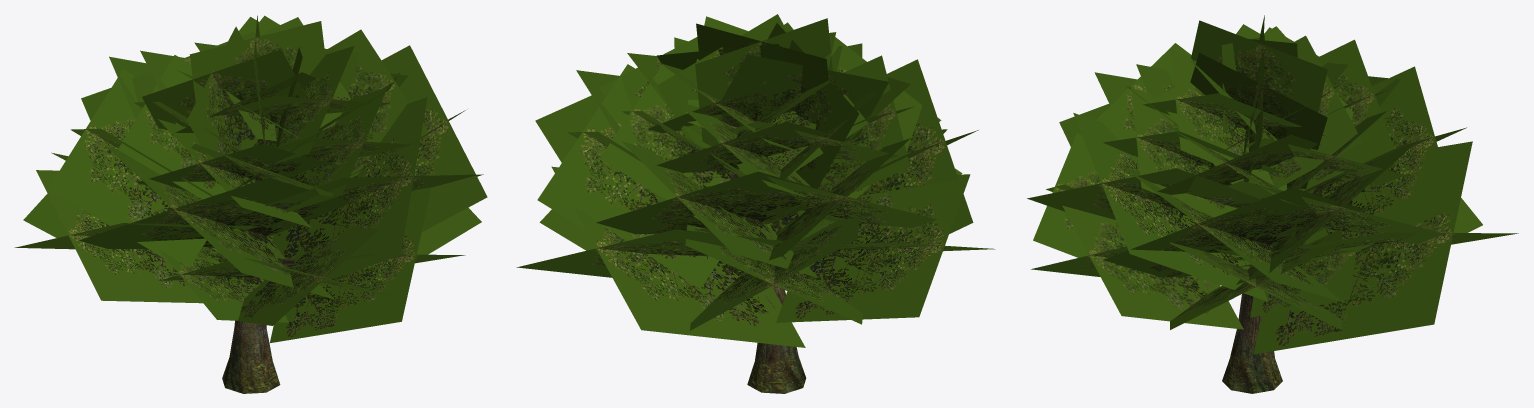
Rendered from tre_pine08.glb.
3 renders of one model, left to right at view 1: azimuth 30°, elevation 25°; view 2: azimuth 150°, elevation 25°; view 3: azimuth 270°, elevation 25°, orthographic.
Visible parts, largest first — view 1: tre_pine08; view 2: tre_pine08; view 3: tre_pine08.
Part boxes in pixels (x1,y1,x2,y2): tre_pine08: (14, 15, 487, 393); tre_pine08: (516, 14, 995, 393); tre_pine08: (1027, 15, 1518, 393).
Bounding box in the file's own units: 72.59 × 57.49 × 73.6.
3 materials, 3 textured.
